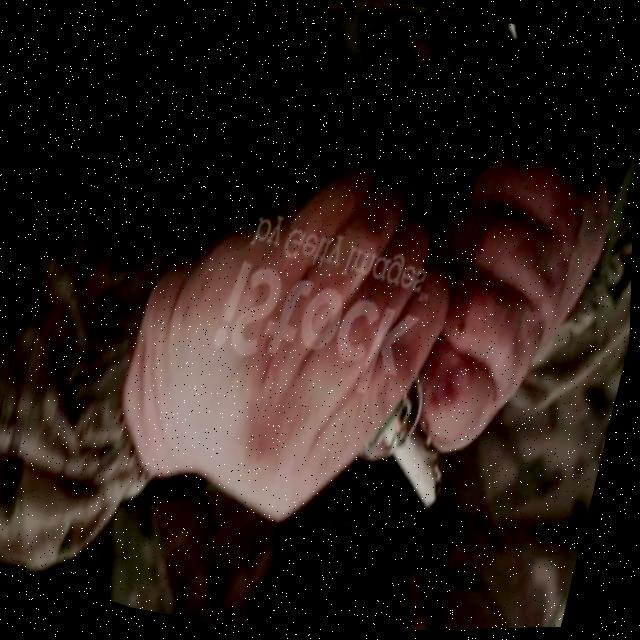grenade: (350, 368, 491, 522)
